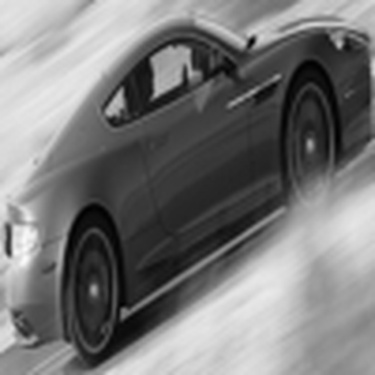car: (1, 12, 365, 338)
